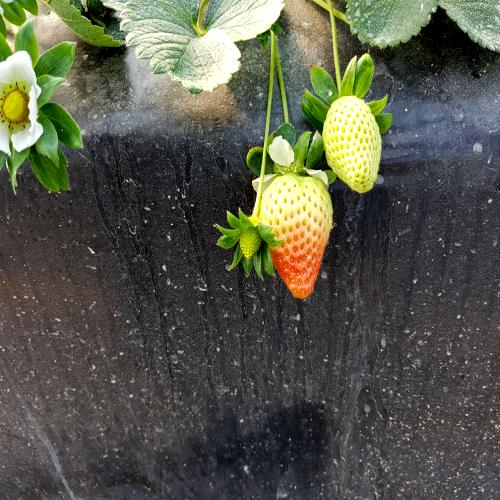partially-ripe: (248, 167, 337, 316)
